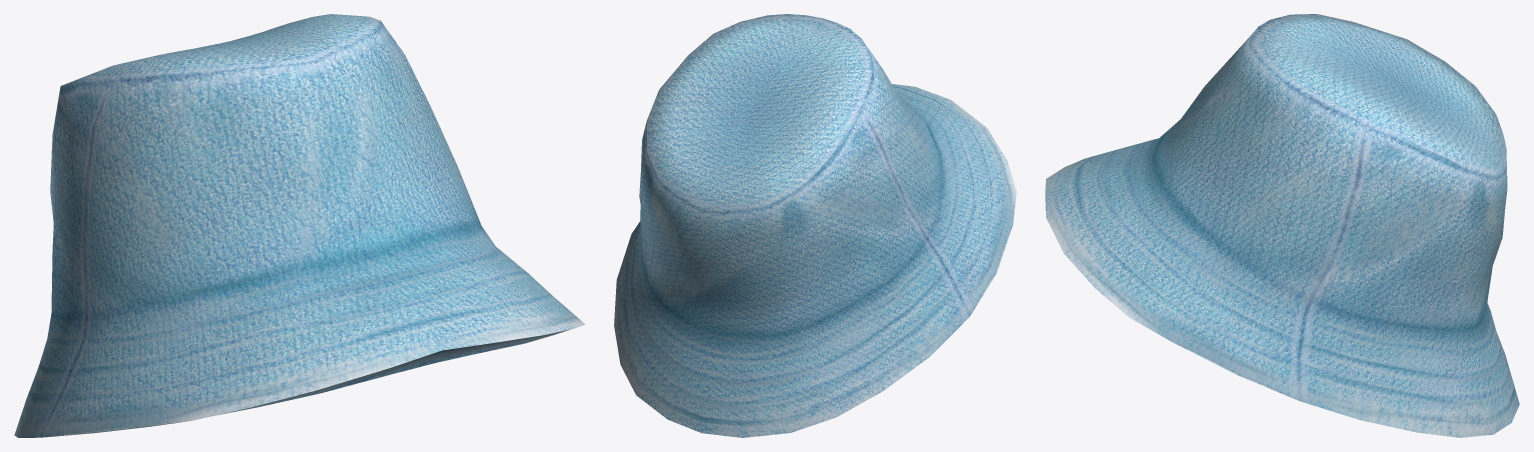
The picture shows the model from 3 angles, left to right: view 1: azimuth 30°, elevation 25°; view 2: azimuth 150°, elevation 25°; view 3: azimuth 270°, elevation 25°; orthographic projection. The views are drawn at different scales.
Parts seen in each view (by area): view 1: Wolf3D_Headwear; view 2: Wolf3D_Headwear; view 3: Wolf3D_Headwear.
Part boxes in pixels (left/top/right/bottom): Wolf3D_Headwear: left=14, top=14, right=585, bottom=437; Wolf3D_Headwear: left=614, top=14, right=1016, bottom=437; Wolf3D_Headwear: left=1045, top=14, right=1519, bottom=437.
Size of the model in its own units: 0.2577 by 0.2371 by 0.2822.
1 material, 1 textured.
